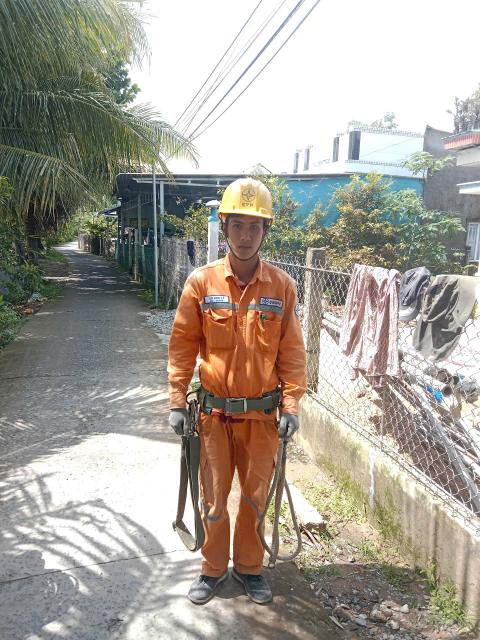gloves: (160, 403, 198, 436), (269, 409, 304, 438)
harness: (184, 377, 297, 416)
helmet: (206, 172, 286, 223)
shoes: (187, 558, 234, 607), (227, 565, 280, 605)
